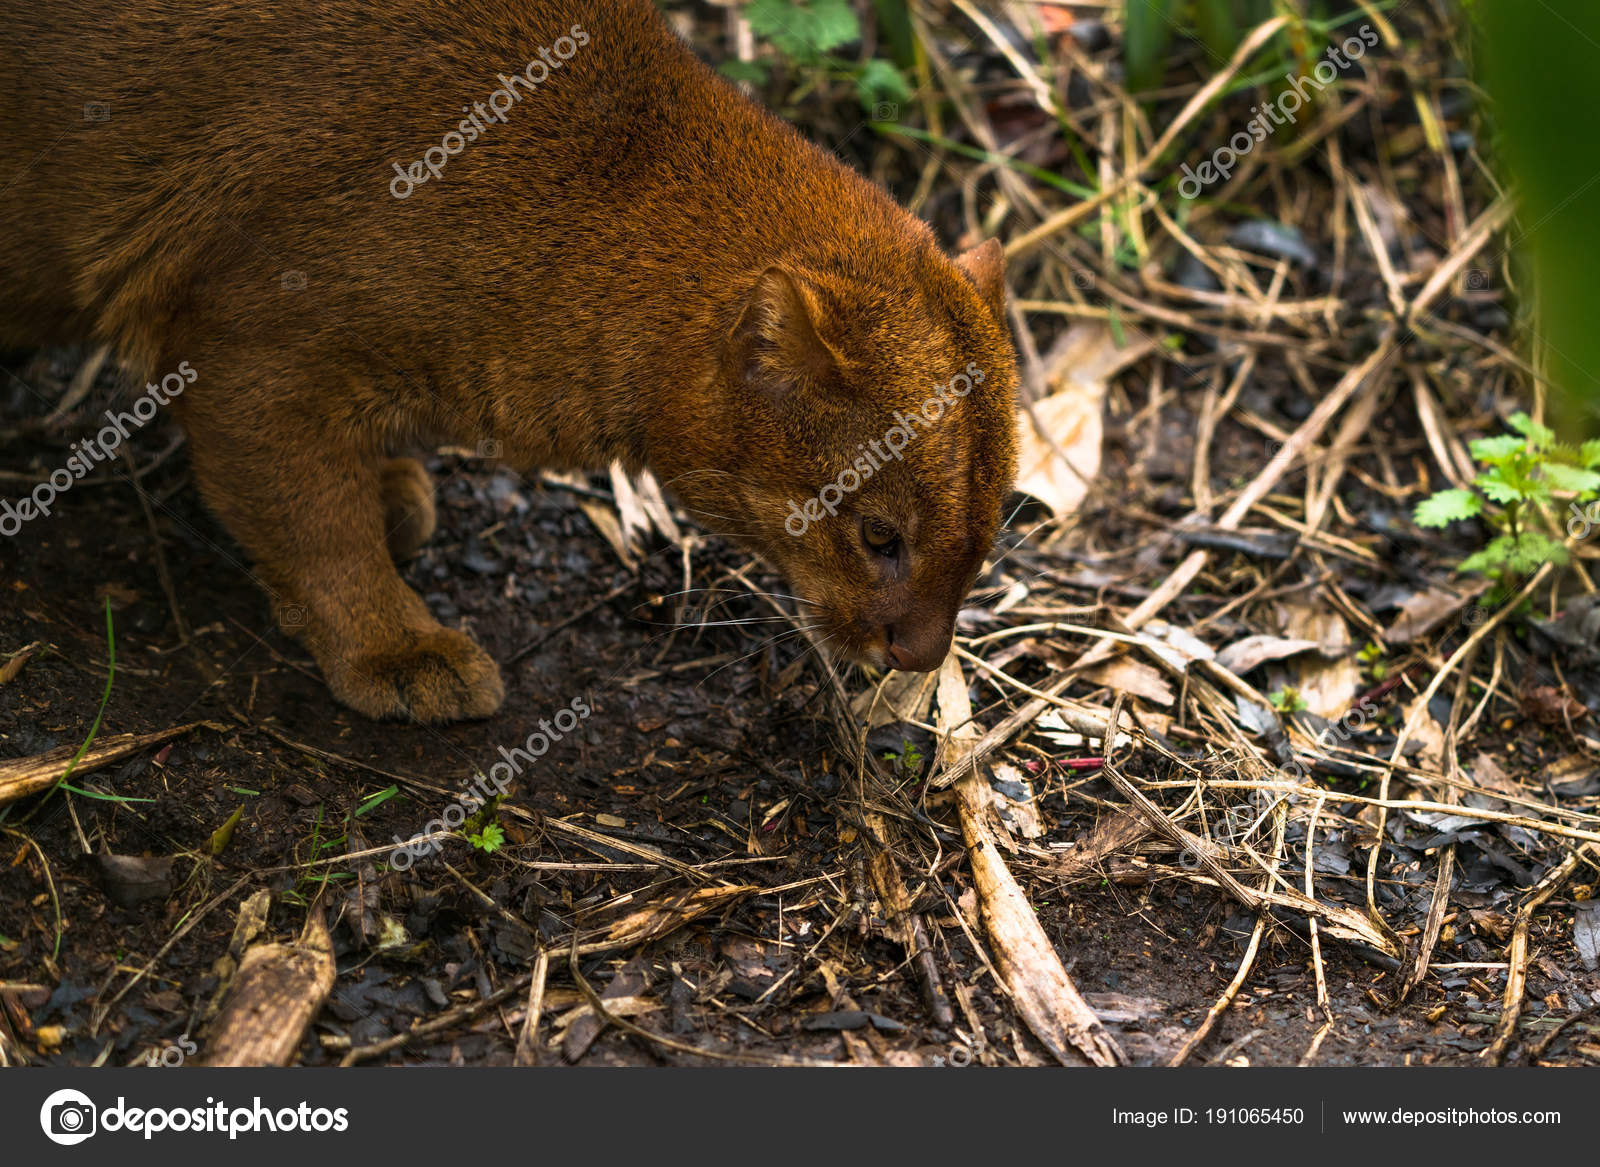Jaguarundi: (117, 15, 1048, 748)
